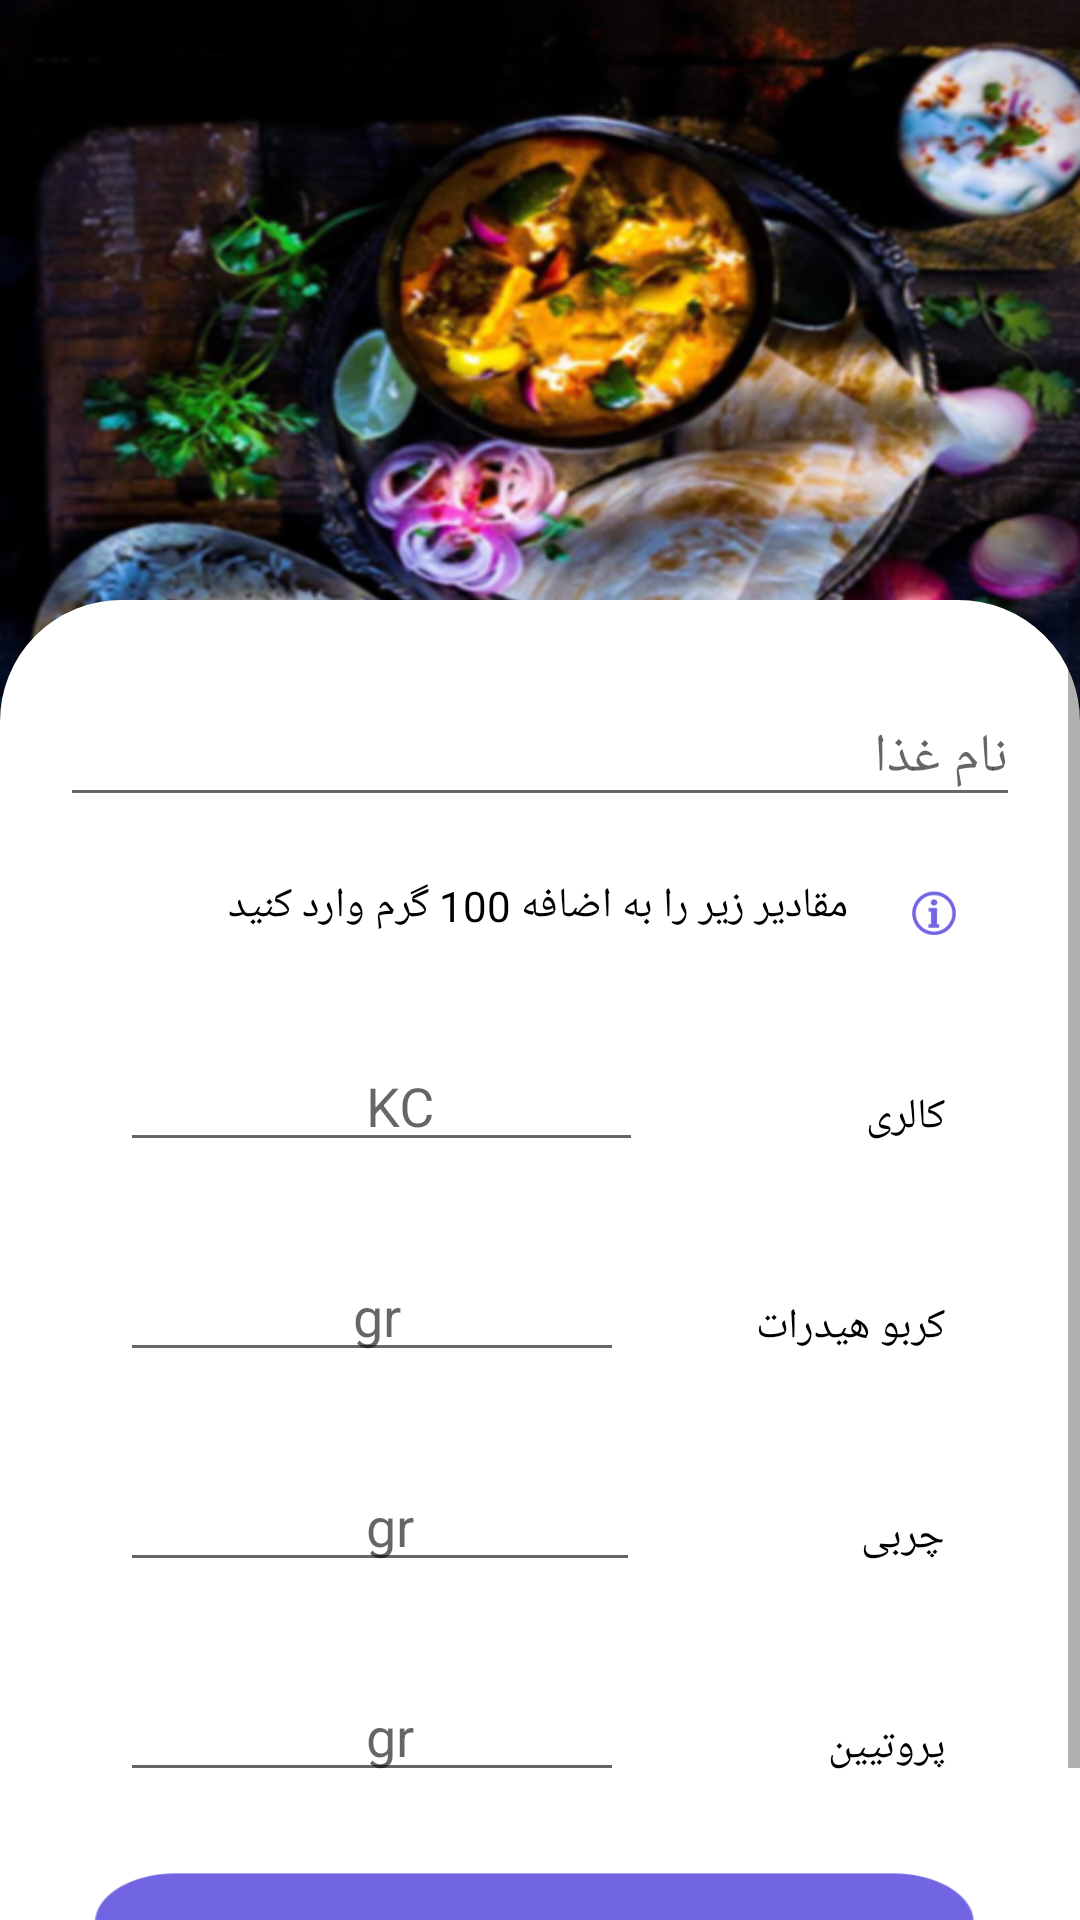

Screen size 1080 x 1920. Icon name, then its center in pixels as point (x, y):
info: point (934, 913)
